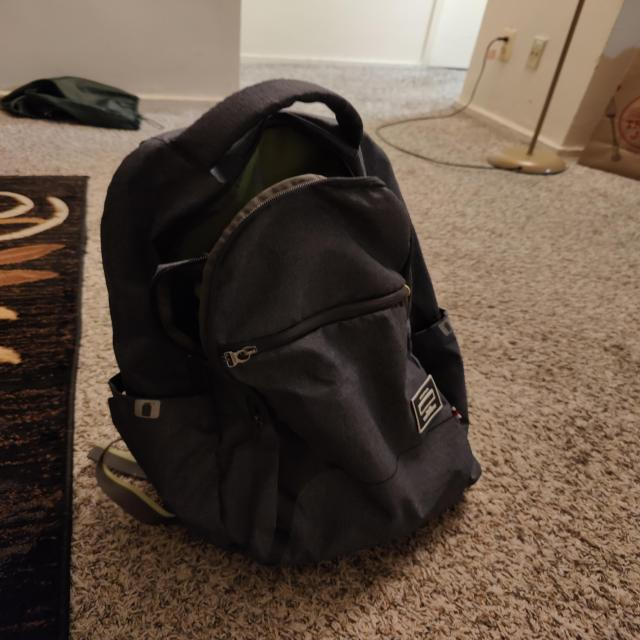bag: (107, 103, 460, 508)
